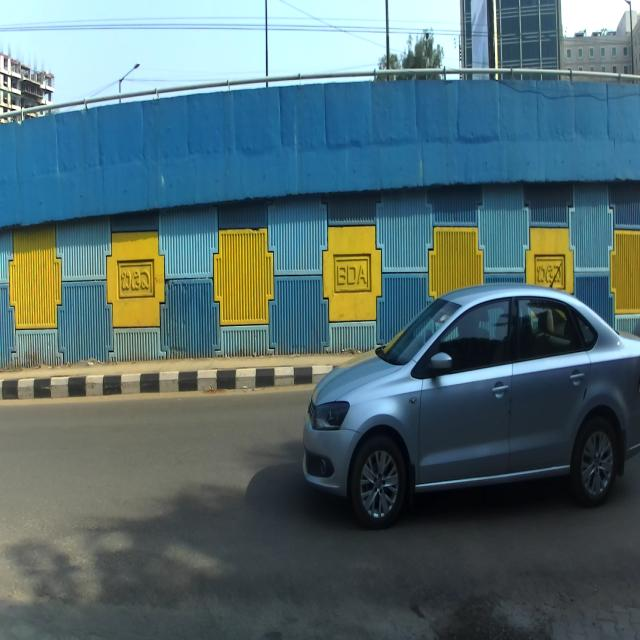car ahead at: (305, 277, 640, 519)
